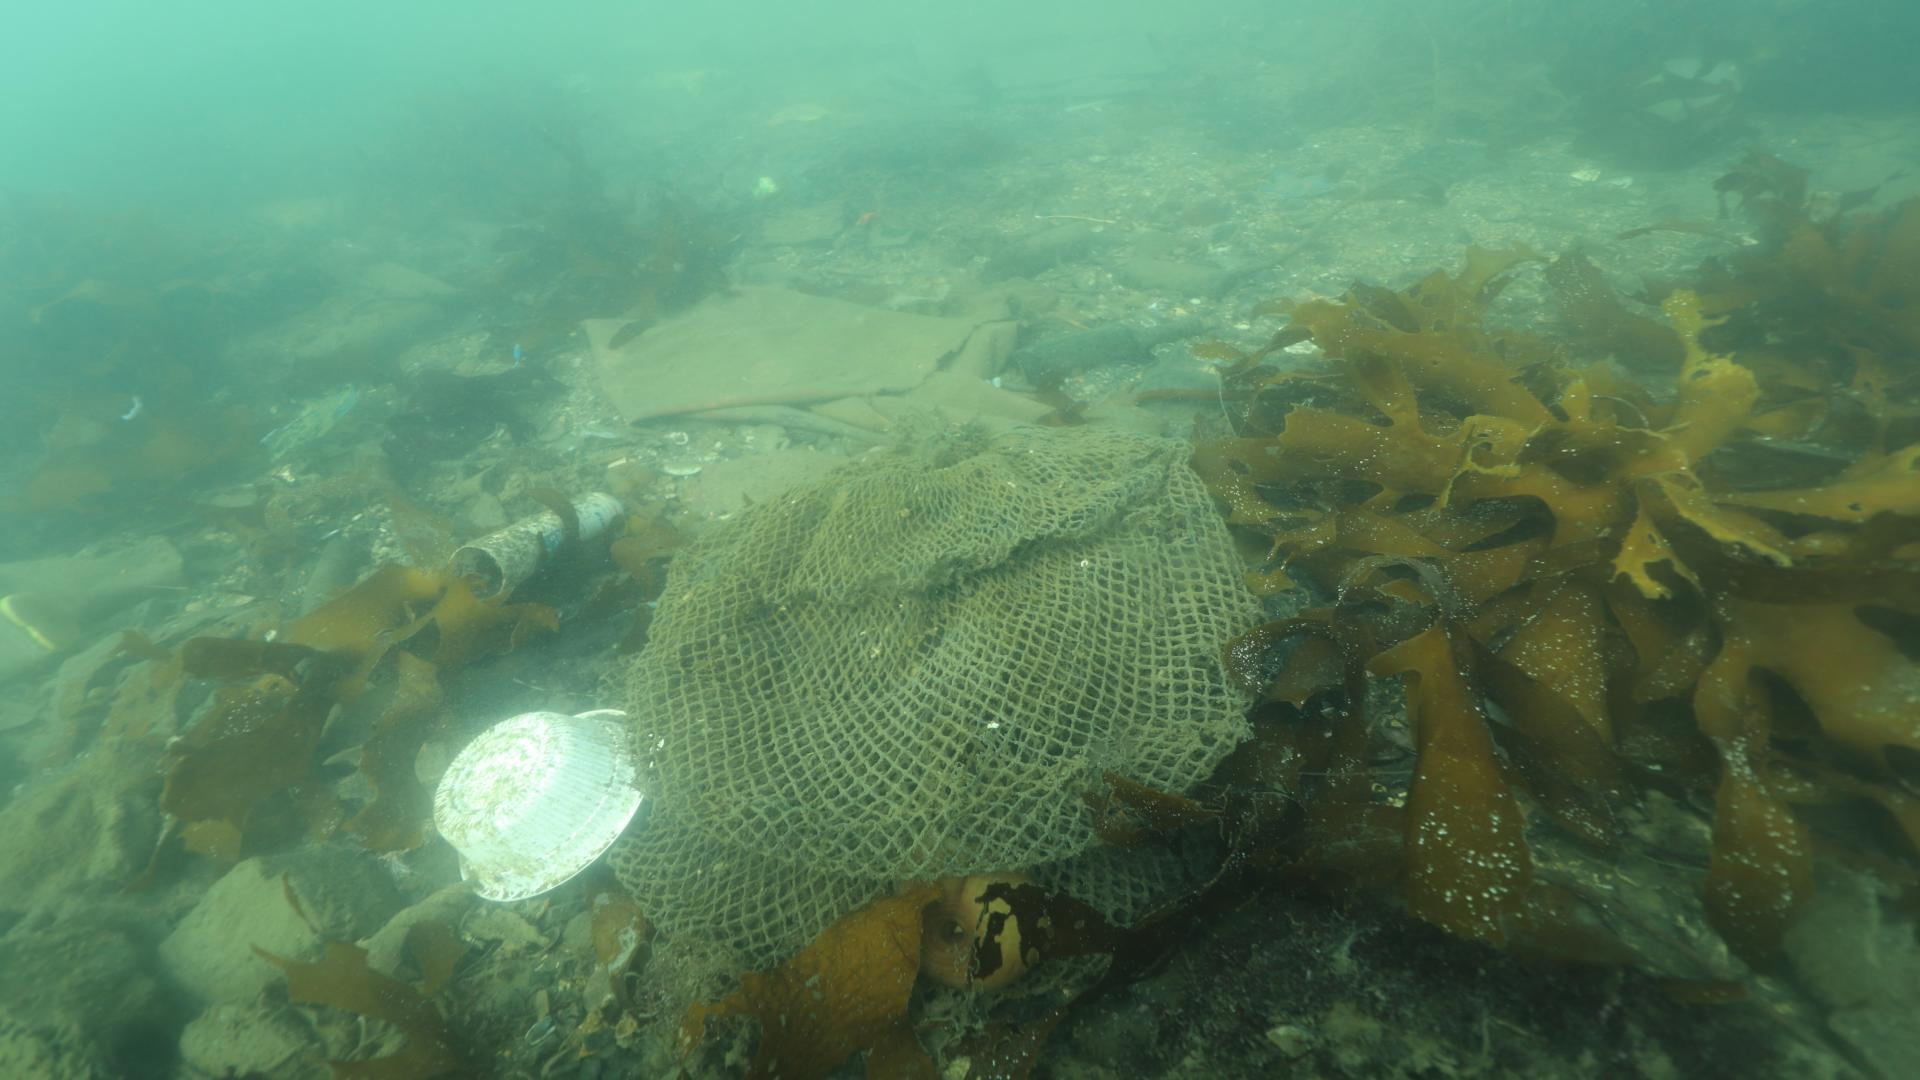fish net: (593, 431, 1270, 996)
